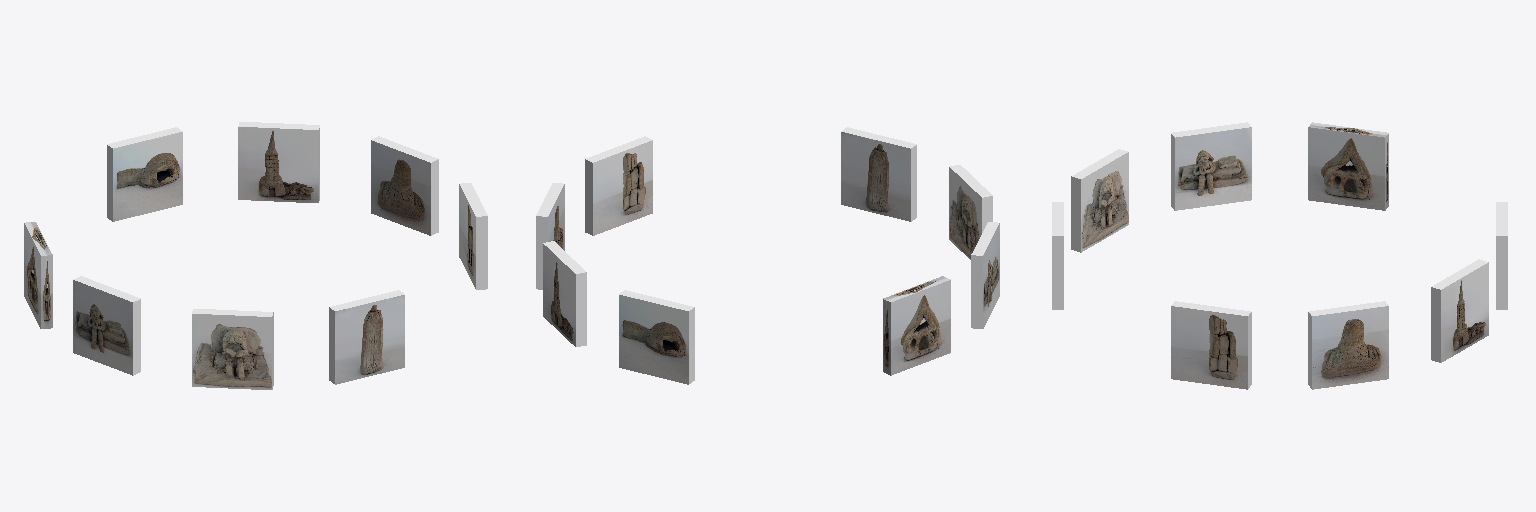
The picture shows the model from 3 angles: view 1: azimuth 30°, elevation 25°; view 2: azimuth 150°, elevation 25°; view 3: azimuth 270°, elevation 25°; orthographic projection.
Parts seen in each view (by area): view 1: Cube_1, Cube_6, Cube_0, Cube_5, Cube_2, Cube_7, Cube_3, Cube_8; view 2: Cube_0, Cube_5, Cube_3, Cube_8, Cube_1, Cube_6, Cube_7, Cube_2; view 3: Cube_2, Cube_3, Cube_7, Cube_8, Cube_1, Cube_6, Cube_0, Cube_5.
Part boxes in pixels (bbox=[...]): Cube_1: bbox=[238, 122, 319, 202]; Cube_6: bbox=[192, 309, 273, 389]; Cube_0: bbox=[107, 127, 182, 221]; Cube_5: bbox=[329, 290, 404, 384]; Cube_2: bbox=[371, 136, 438, 235]; Cube_7: bbox=[73, 276, 140, 375]; Cube_3: bbox=[459, 183, 487, 289]; Cube_8: bbox=[24, 222, 52, 328]; Cube_0: bbox=[619, 290, 694, 384]; Cube_5: bbox=[841, 127, 916, 221]; Cube_3: bbox=[585, 136, 652, 235]; Cube_8: bbox=[883, 276, 950, 375]; Cube_1: bbox=[543, 241, 586, 346]; Cube_6: bbox=[949, 165, 992, 259]; Cube_7: bbox=[971, 222, 999, 328]; Cube_2: bbox=[536, 183, 564, 289]; Cube_2: bbox=[1308, 301, 1388, 389]; Cube_3: bbox=[1171, 301, 1251, 389]; Cube_7: bbox=[1171, 122, 1251, 210]; Cube_8: bbox=[1308, 122, 1388, 210]; Cube_1: bbox=[1431, 259, 1488, 362]; Cube_6: bbox=[1071, 149, 1128, 252]; Cube_0: bbox=[1496, 202, 1507, 309]; Cube_5: bbox=[1052, 202, 1063, 309].
Bounding box in the file's own units: 1364 × 240 × 1356.
Materials: 9 (8 with a texture image).